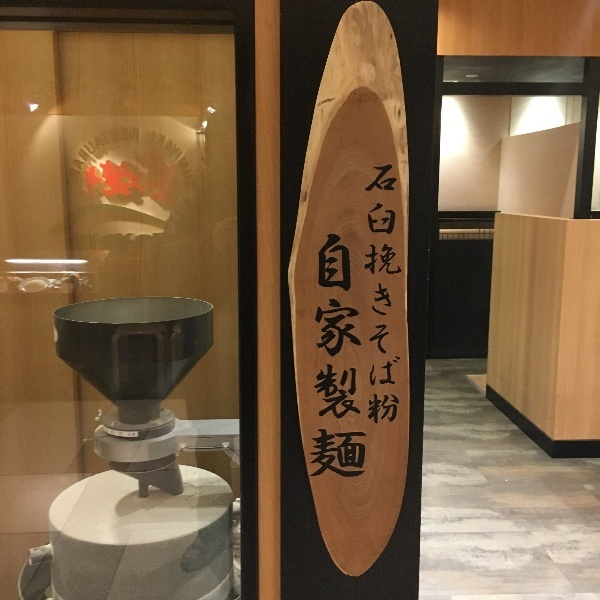text: (369, 164, 384, 425), (385, 164, 400, 425), (321, 234, 336, 479), (337, 234, 352, 479), (353, 234, 367, 479), (310, 234, 320, 479), (362, 164, 368, 425), (81, 128, 96, 193), (97, 128, 112, 193), (113, 128, 128, 193), (97, 149, 112, 212), (113, 149, 128, 212), (129, 149, 144, 212), (145, 149, 160, 212), (161, 149, 176, 212), (161, 130, 176, 192), (177, 130, 192, 192), (66, 128, 80, 193), (129, 128, 140, 193), (85, 149, 96, 212), (151, 130, 160, 192), (177, 149, 183, 212), (401, 164, 402, 425), (193, 130, 196, 192)
